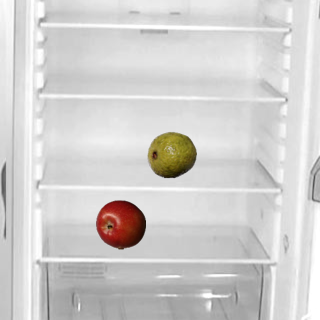Apple Braeburn: (95, 199, 145, 249)
Guava: (146, 129, 196, 179)
